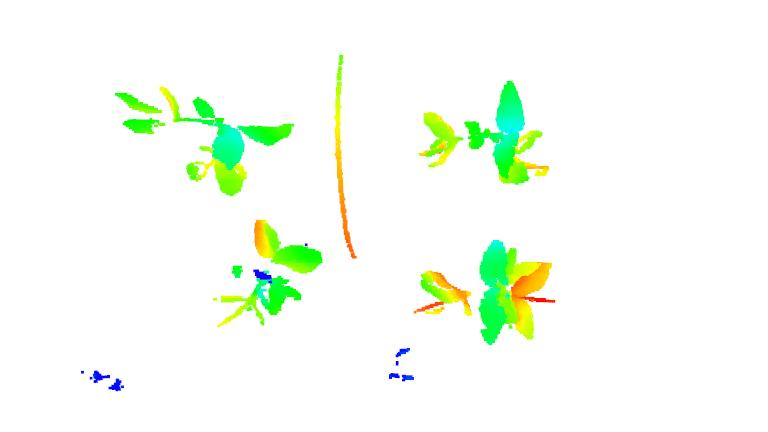mungbean: (113, 82, 296, 201), (410, 235, 559, 352), (417, 78, 555, 197), (211, 218, 325, 335)
